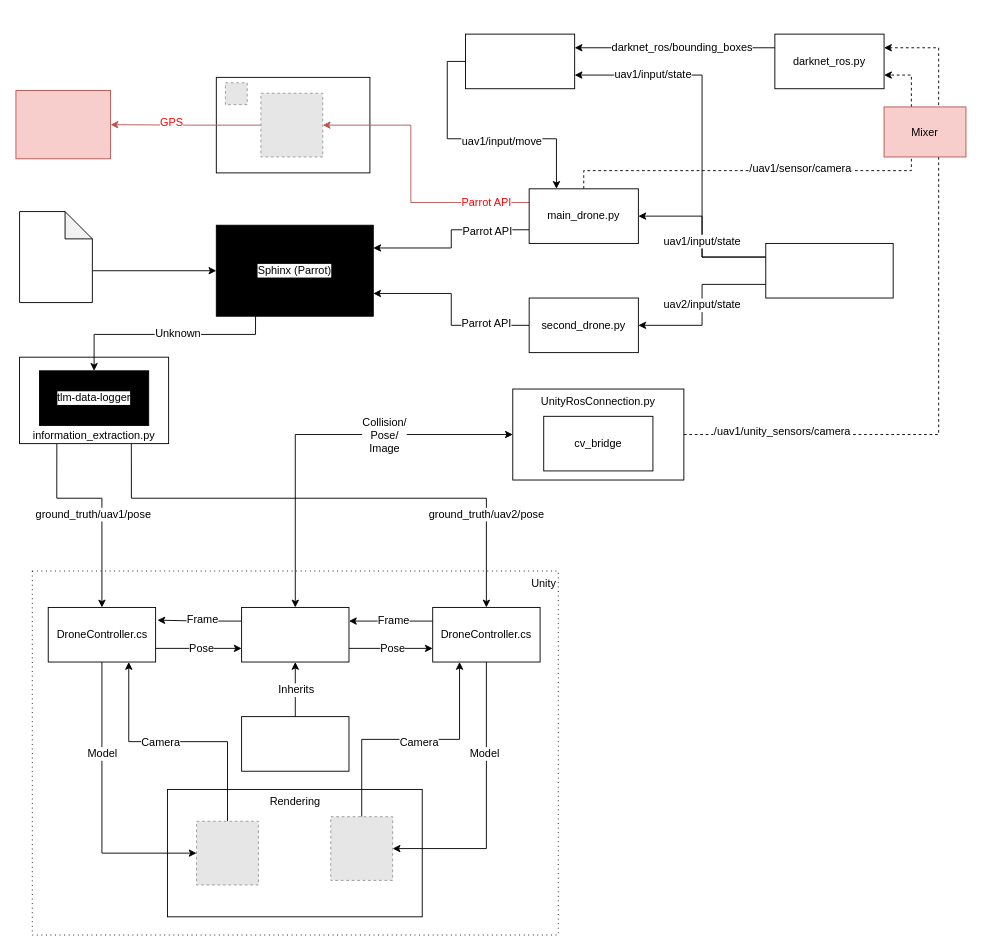
The diagram is 982 pixels wide and 951 high, and some of its shapes have lost their labels. Grey dashed boxes stand in for pictures. Here are the shapes that lost their labels. From the top down, the centre of each, then its label:
the point at 520,61: avoidance.py
the point at 63,124: Position Recorder
the point at 55,257: empty.world
the point at 829,270: scenario_controller.py
the point at 295,634: TcpConnection.cs
the point at 295,743: RunAbleThread.cs
